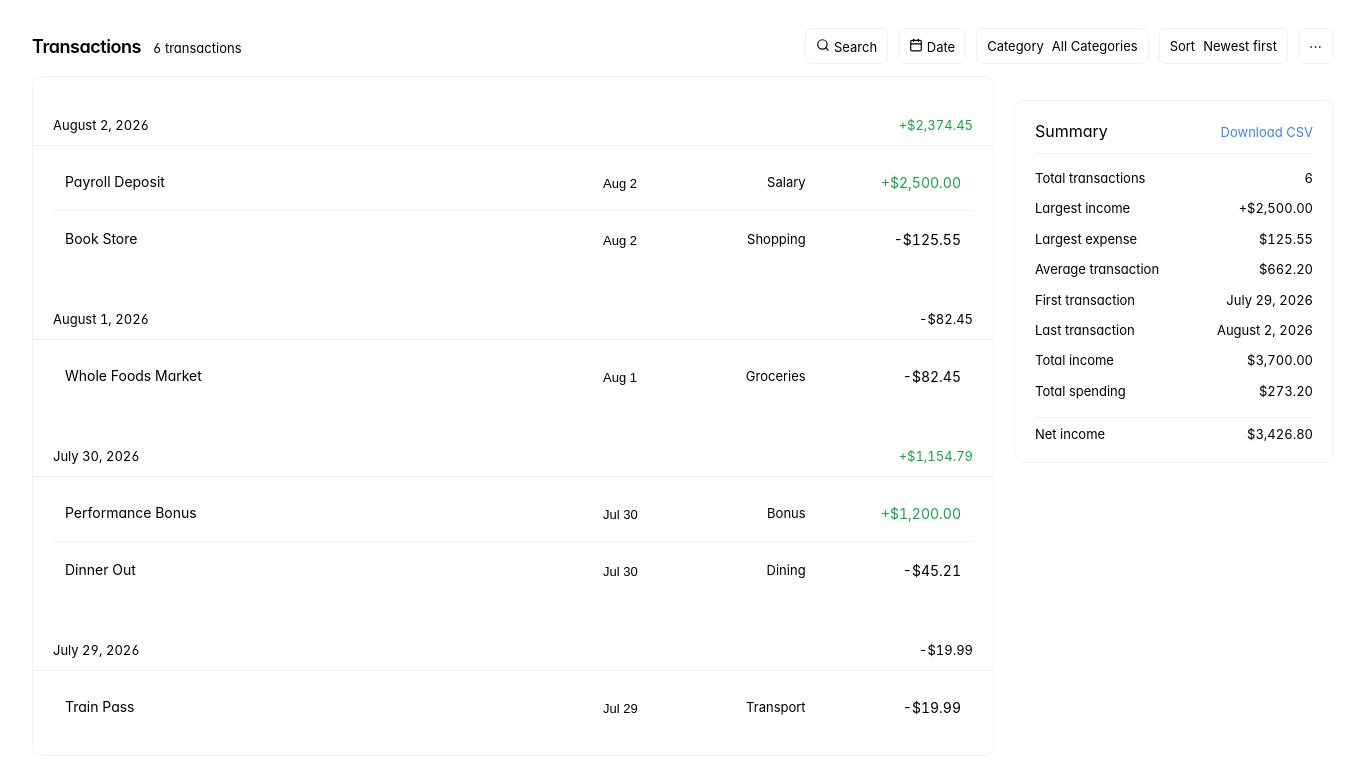
Transactions branch coverage › toggles an individual category group from its group checkbox
Check: the text "Book Store" is shown, box [65,230,137,246]
Click the button "Category All Categories": (1062, 46) [976,28,1149,64]
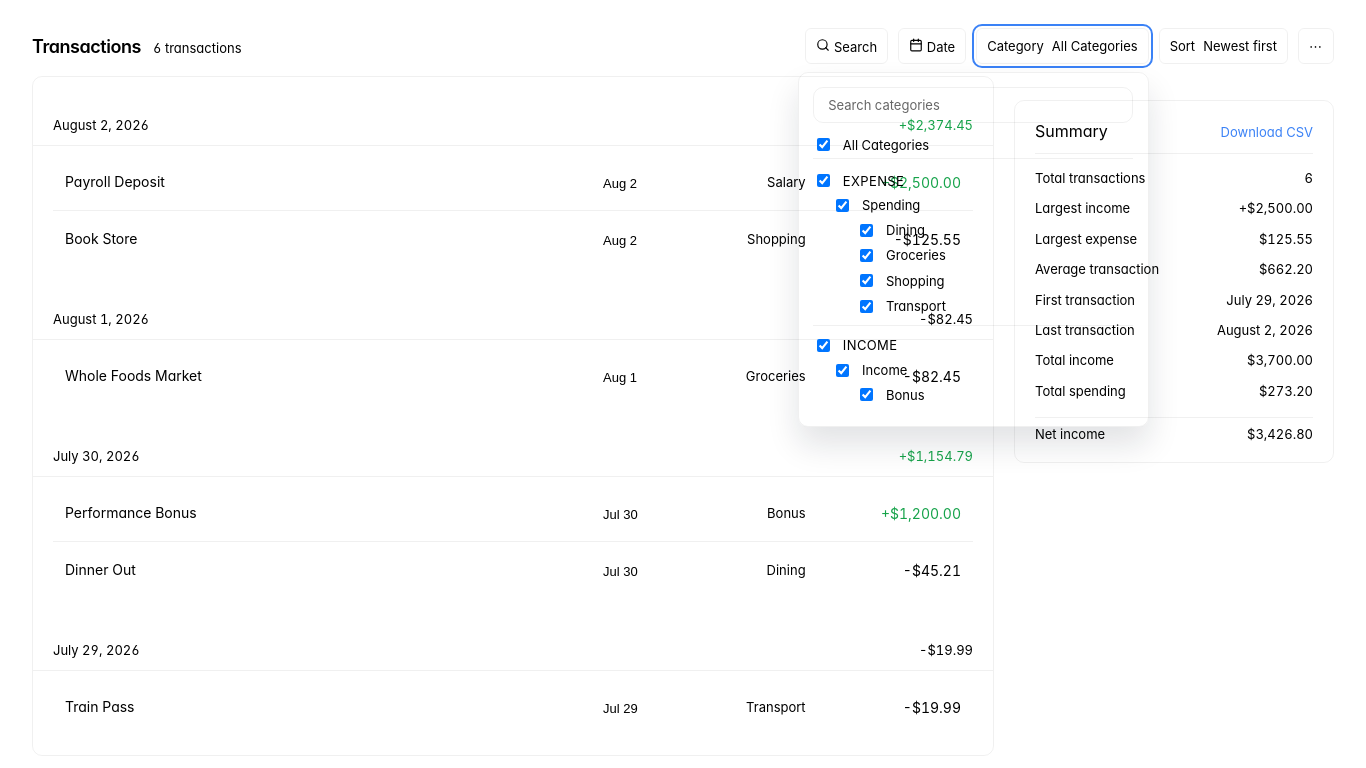
Click the checkbox labelled "Spending": (843, 206) [836,199,849,212]
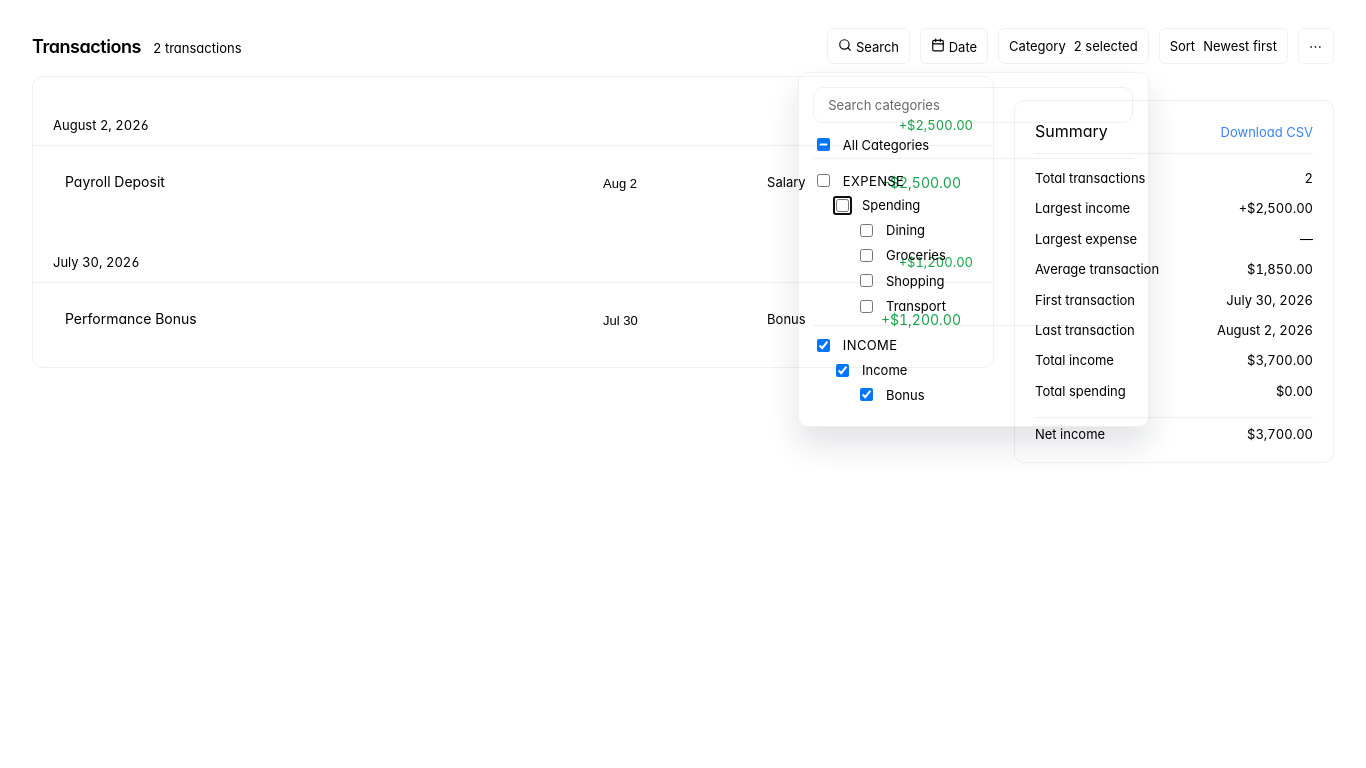
Check: the text "Payroll Deposit" is shown, box [65,172,165,190]
Check: the text "Book Store" is gone
Check: the text "Whole Foods Market" is gone
